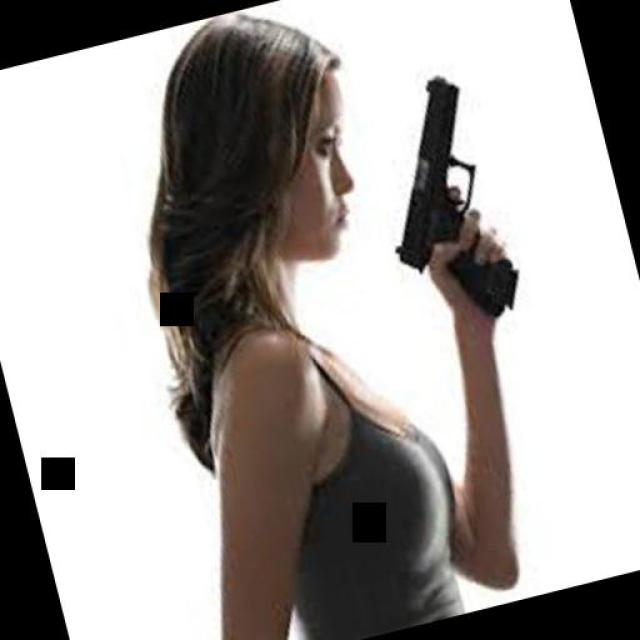gun: (358, 62, 532, 340)
